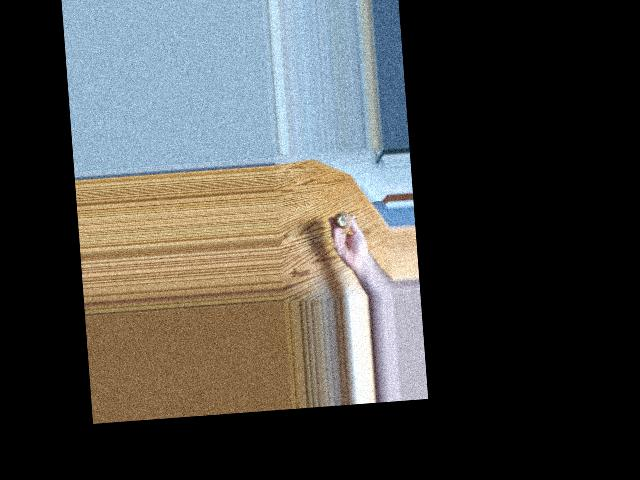sweet_potato: (336, 207, 354, 229)
